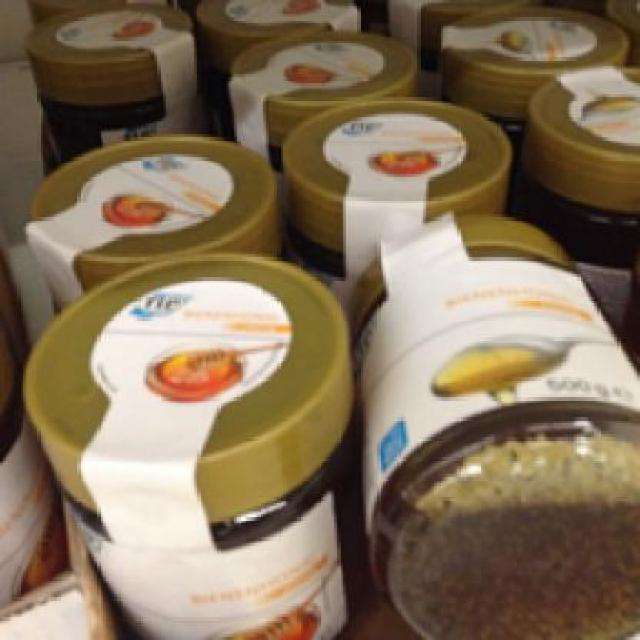Honey: (26, 248, 357, 638), (360, 212, 634, 638)
